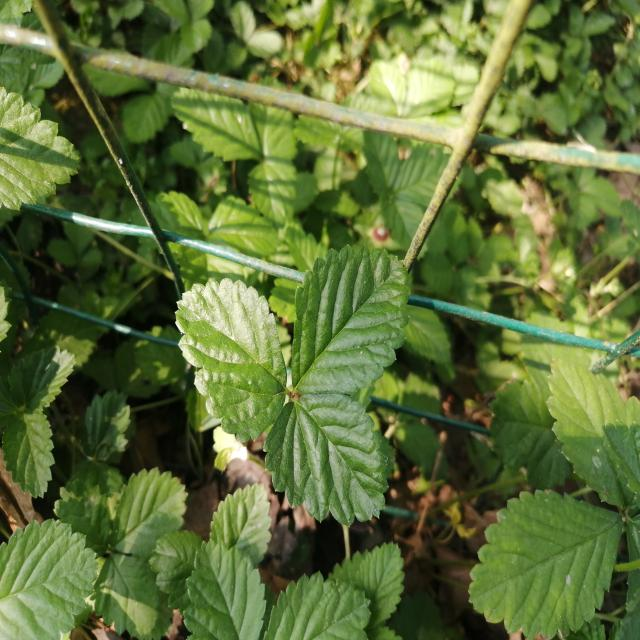Mock_strawberry: (171, 226, 422, 504)
